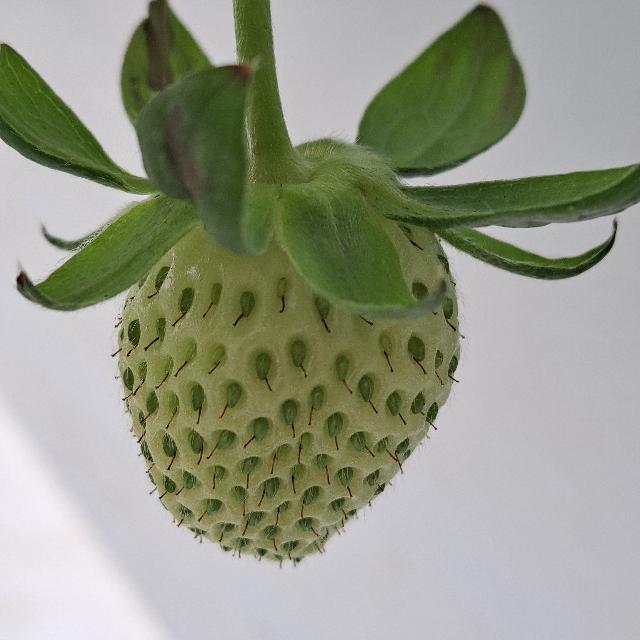Health_25: (118, 226, 460, 562)
